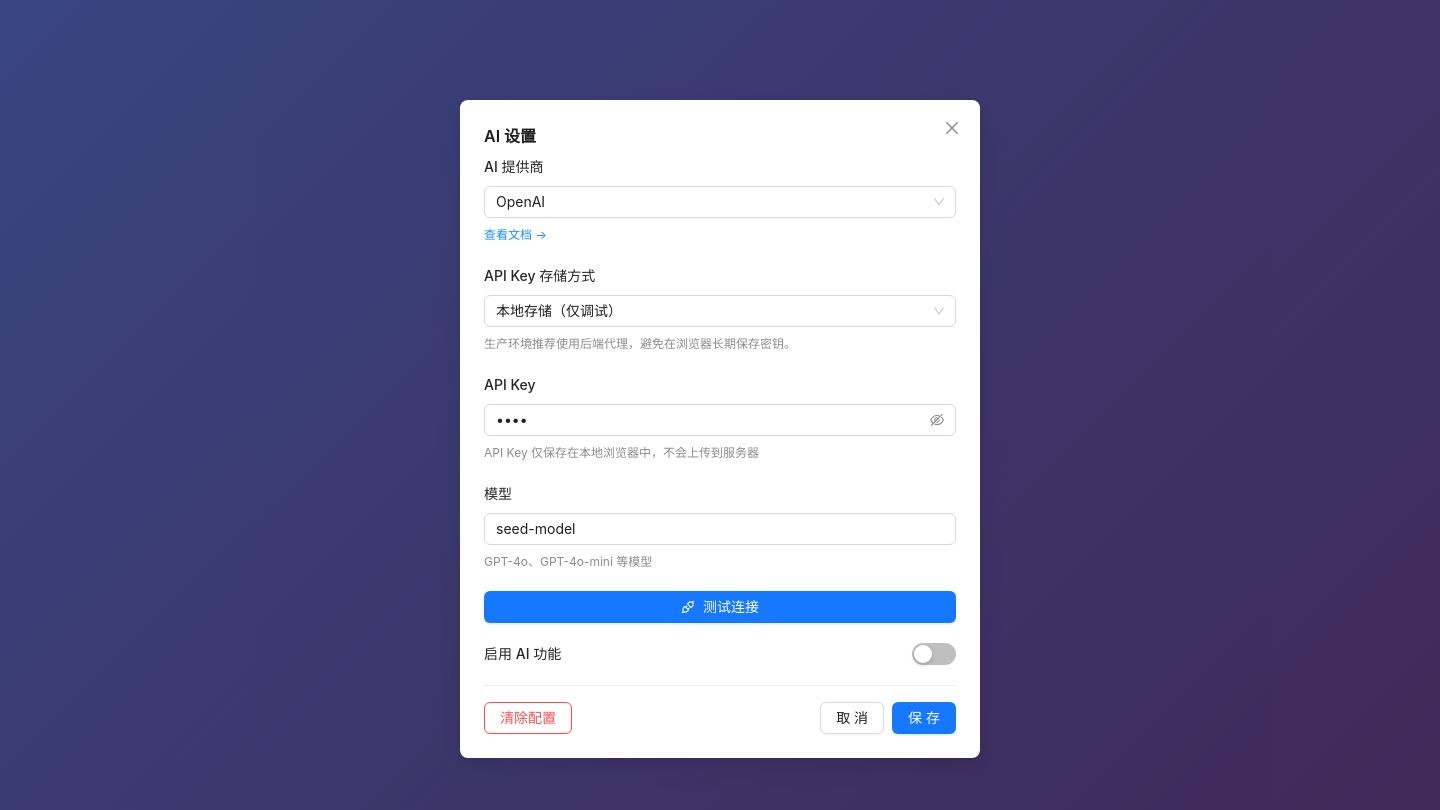
Test: AiSettingsModal 打开时的表单初始化 › 重新打开时不残留上一次的连接测试结果
Click the button "测试连接": (720, 607) [484,591,956,623]
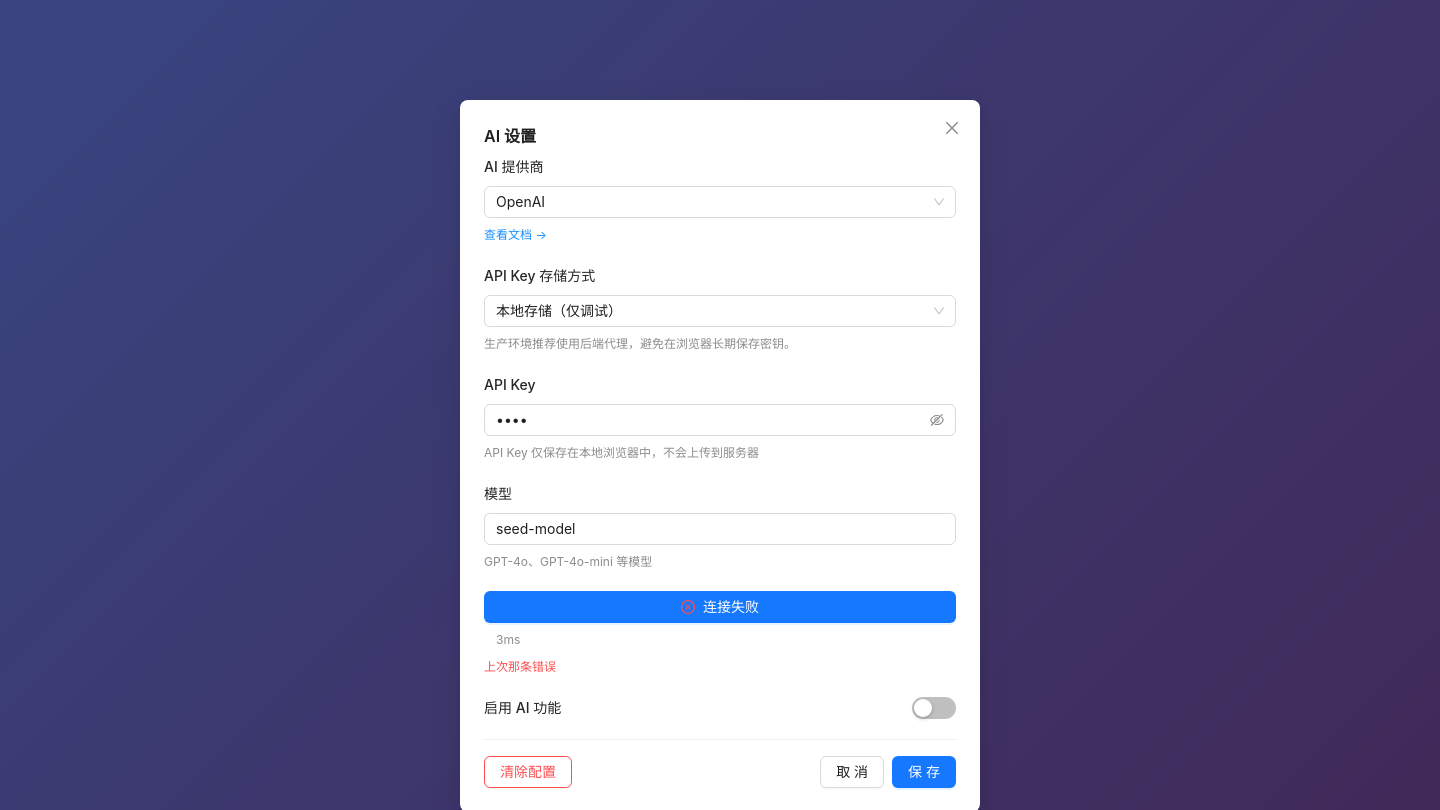
Click the button "取 消": (852, 772) [820,756,884,788]
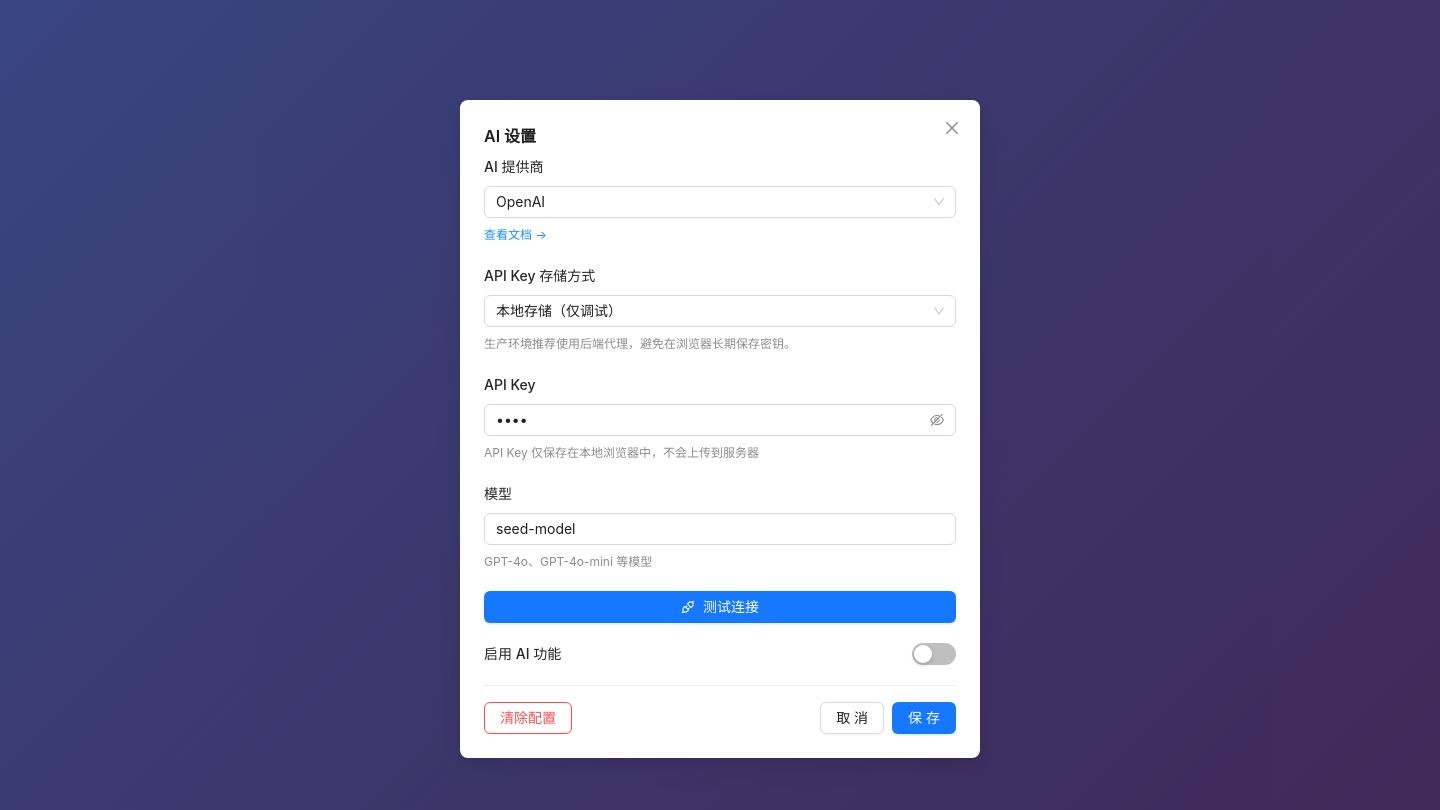
Expected: the text with class "ai-settings__latency" is gone
